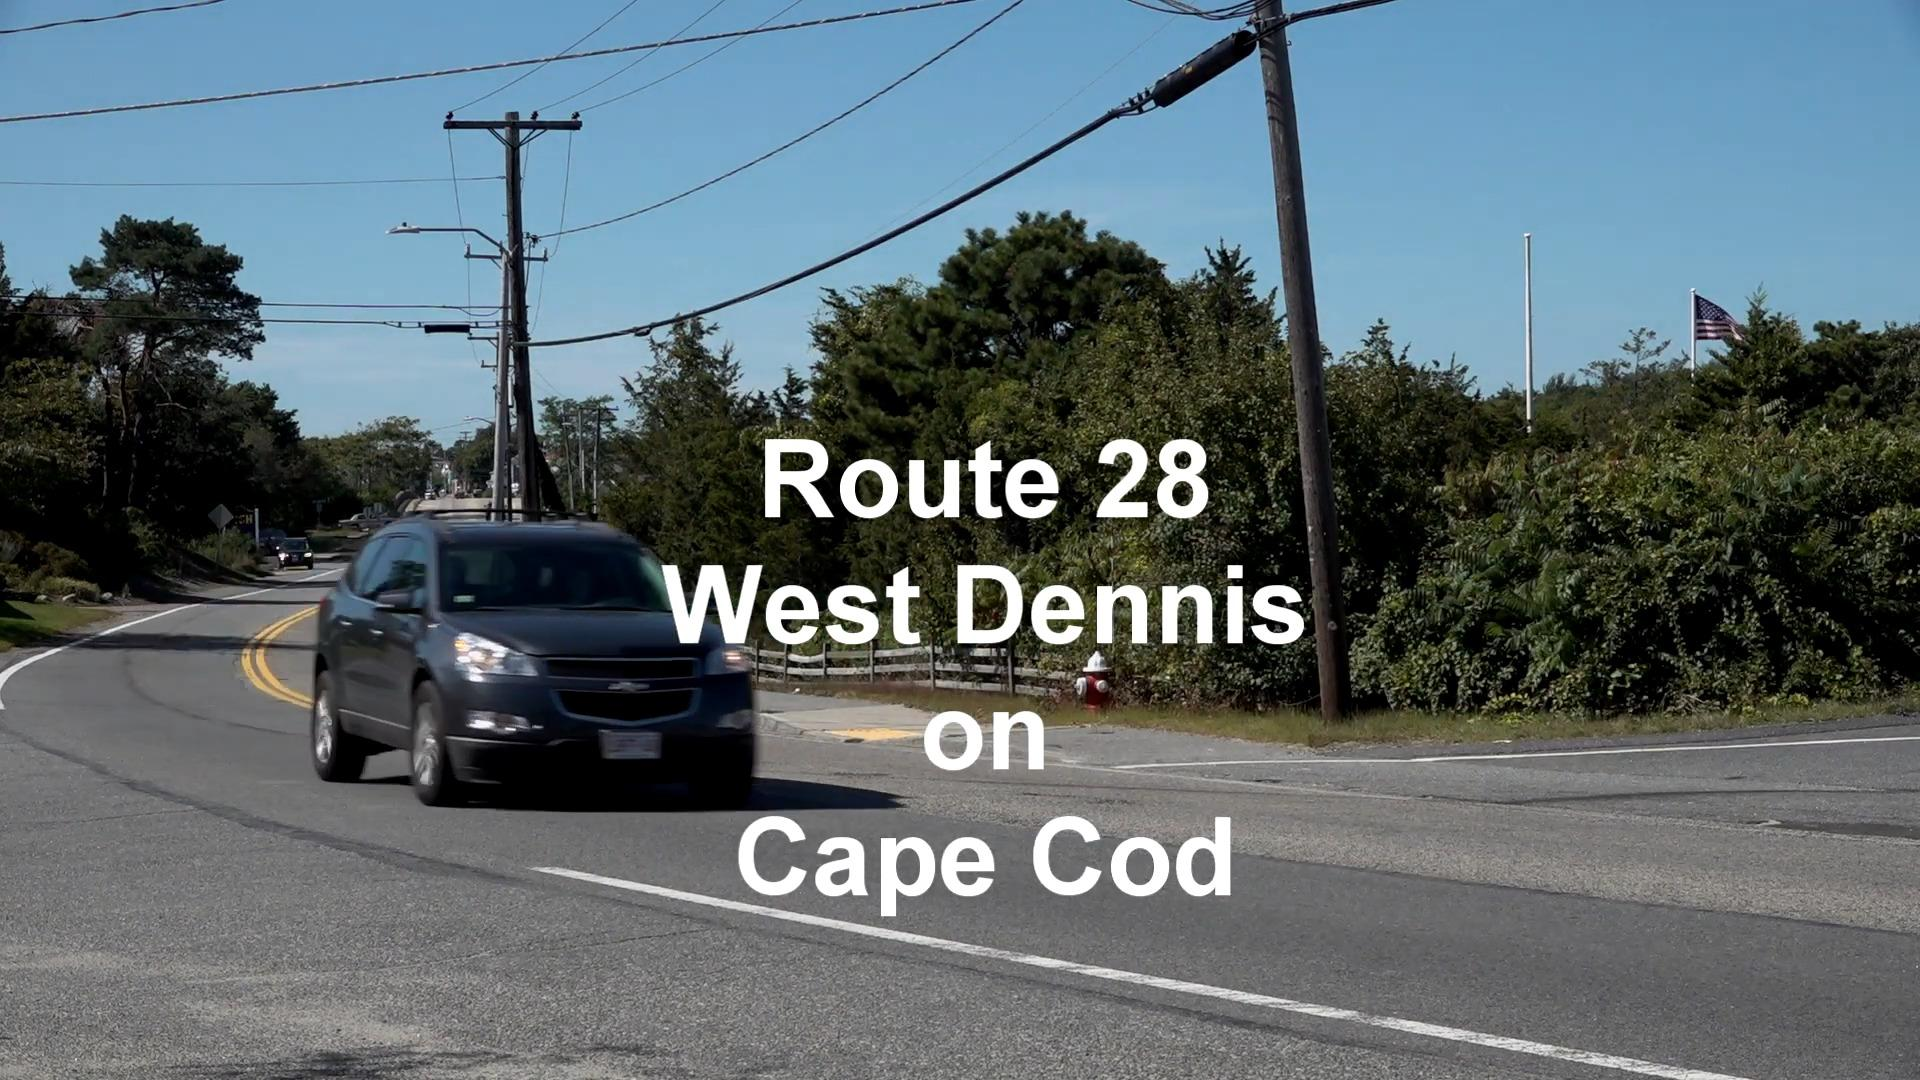suv: (314, 512, 754, 812)
